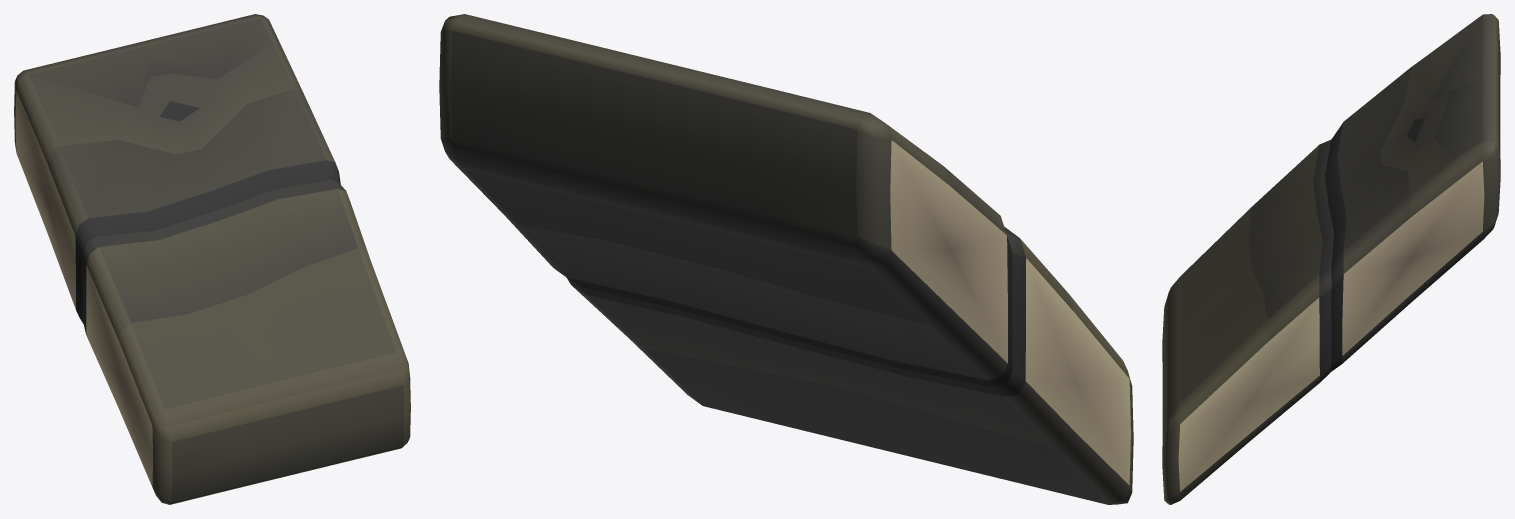
File: ColdWood_Slope.fbx
3 renders of one model, left to right at view 1: azimuth 30°, elevation 25°; view 2: azimuth 150°, elevation 25°; view 3: azimuth 270°, elevation 25°, orthographic. The views are drawn at different scales.
Parts seen in each view (by area): view 1: ColdWood_Slope_LOD0; view 2: ColdWood_Slope_LOD0; view 3: ColdWood_Slope_LOD0.
Part boxes in pixels (bbox=[...]): ColdWood_Slope_LOD0: bbox=[14, 14, 410, 504]; ColdWood_Slope_LOD0: bbox=[439, 14, 1133, 504]; ColdWood_Slope_LOD0: bbox=[1162, 14, 1500, 504].
Size of what is drawn, in the model's own units: 1.13 by 1.34 by 1.13.
